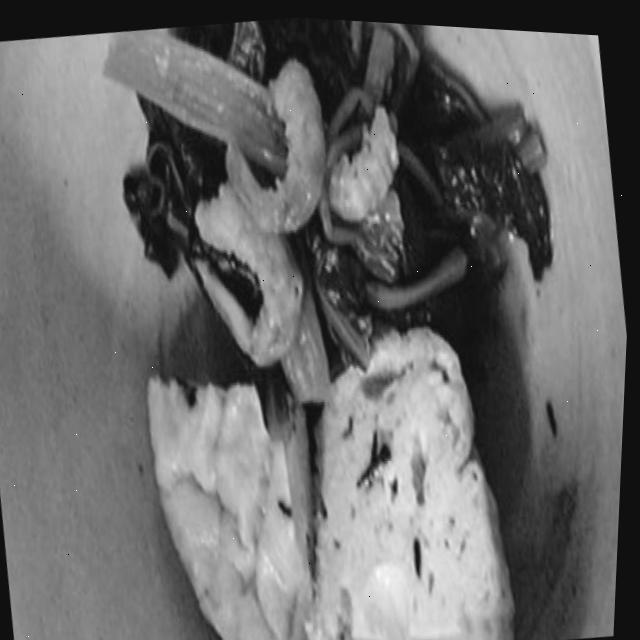熟制海鲜: (88, 284, 549, 640)
